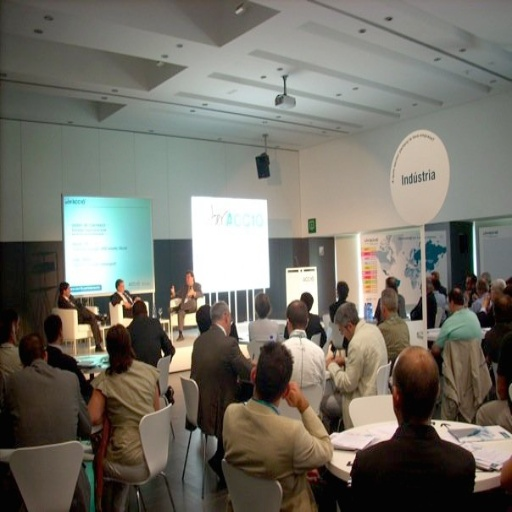hand: (283, 379, 300, 408), (304, 466, 318, 482), (332, 352, 345, 368), (480, 292, 491, 308), (471, 288, 483, 301), (185, 283, 194, 297), (461, 288, 468, 304), (166, 283, 176, 294), (325, 348, 332, 363), (122, 299, 131, 309)
